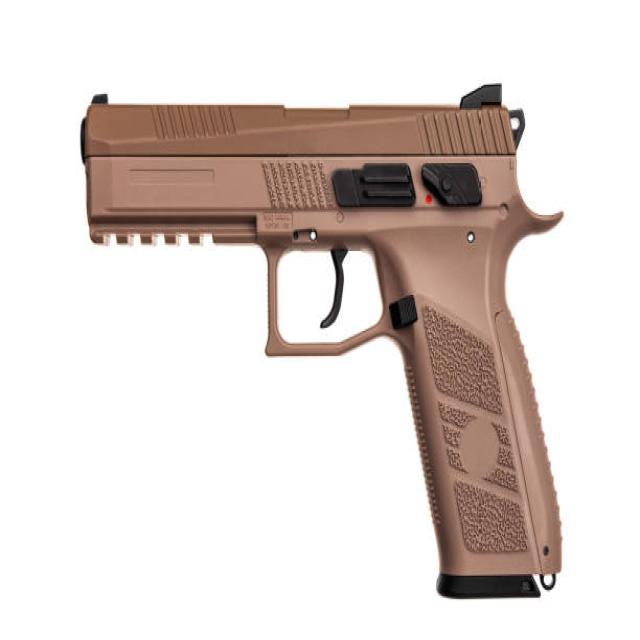pistol: (68, 76, 573, 607)
